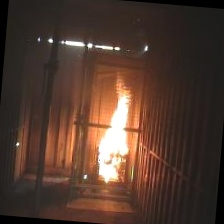fire: (92, 75, 141, 182)
